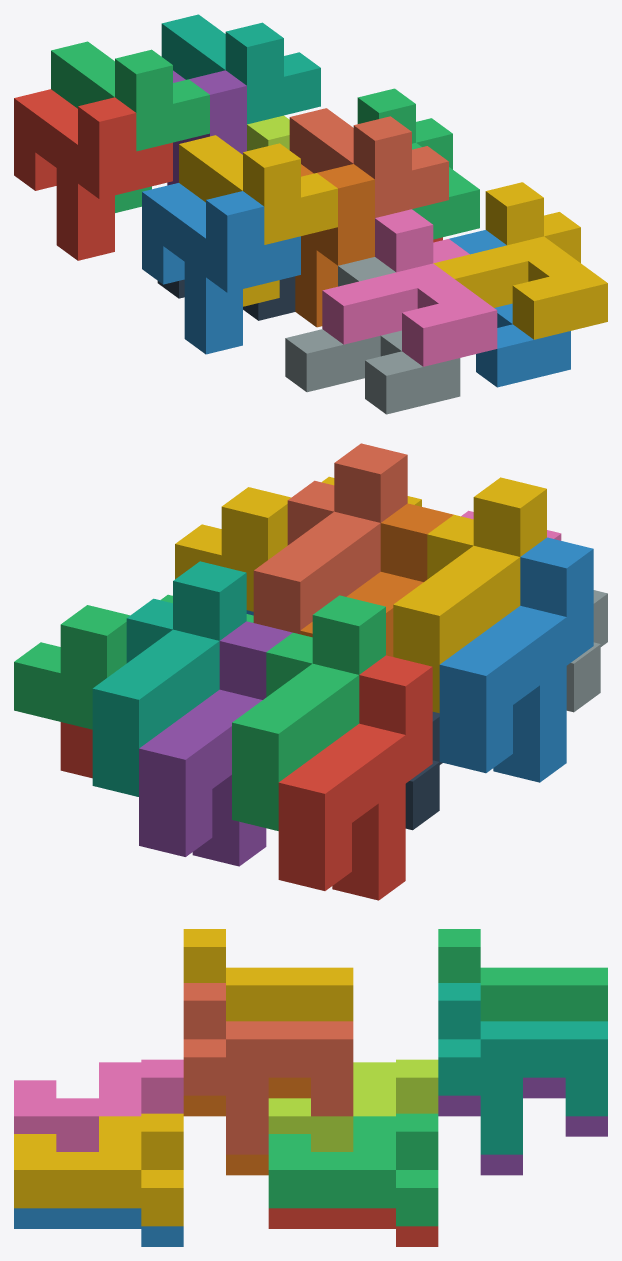
The model's file is tiling.obj.
3 views of the same model, one above another, from view 1: azimuth 30°, elevation 25°; view 2: azimuth 150°, elevation 25°; view 3: azimuth 270°, elevation 25° (orthographic). The views are drawn at different scales.
Visible parts, largest first — view 1: copy_1_domain_2, copy_1_domain_1, copy_2_domain_4, copy_2_domain_8, copy_1_domain_4, copy_1_domain_3, copy_2_domain_2, copy_1_domain_8, copy_1_domain_7, copy_1_domain_6, copy_2_domain_7, copy_2_domain_6 (+3 smaller); view 2: copy_1_domain_1, copy_1_domain_2, copy_1_domain_7, copy_1_domain_3, copy_1_domain_5, copy_1_domain_4, copy_1_domain_8, copy_2_domain_7, copy_2_domain_8, copy_1_domain_6, copy_2_domain_2, copy_2_domain_1 (+1 smaller); view 3: copy_1_domain_8, copy_1_domain_7, copy_2_domain_7, copy_2_domain_8, copy_1_domain_4, copy_1_domain_3, copy_2_domain_4, copy_2_domain_3, copy_1_domain_5, copy_2_domain_5, copy_2_domain_6, copy_1_domain_6.
Part boxes in pixels (<box>): copy_1_domain_2: <box>142,183,300,354</box>; copy_1_domain_1: <box>14,89,172,260</box>; copy_2_domain_4: <box>322,209,497,366</box>; copy_2_domain_8: <box>433,182,607,339</box>; copy_1_domain_4: <box>179,135,337,306</box>; copy_1_domain_3: <box>51,41,209,212</box>; copy_2_domain_2: <box>285,257,460,414</box>; copy_1_domain_8: <box>289,108,448,217</box>; copy_1_domain_7: <box>161,14,320,124</box>; copy_1_domain_6: <box>295,164,374,327</box>; copy_2_domain_7: <box>357,88,479,239</box>; copy_2_domain_6: <box>449,230,570,387</box>; copy_1_domain_1: <box>278,655,432,900</box>; copy_1_domain_2: <box>439,537,593,782</box>; copy_1_domain_7: <box>92,561,246,796</box>; copy_1_domain_3: <box>232,595,385,830</box>; copy_1_domain_5: <box>139,621,292,866</box>; copy_1_domain_4: <box>393,477,546,713</box>; copy_1_domain_8: <box>253,443,407,634</box>; copy_2_domain_7: <box>14,594,253,729</box>; copy_2_domain_8: <box>175,476,421,611</box>; copy_1_domain_6: <box>300,503,453,656</box>; copy_2_domain_2: <box>566,590,607,712</box>; copy_2_domain_1: <box>405,712,442,830</box>; copy_1_domain_8: <box>183,983,353,1154</box>; copy_1_domain_7: <box>438,983,607,1154</box>; copy_2_domain_7: <box>268,1113,438,1226</box>; copy_2_domain_8: <box>14,1113,183,1226</box>; copy_1_domain_4: <box>183,929,353,1021</box>; copy_1_domain_3: <box>438,929,607,1021</box>; copy_2_domain_4: <box>14,1059,183,1151</box>; copy_2_domain_3: <box>268,1059,438,1151</box>; copy_1_domain_5: <box>438,1077,607,1175</box>; copy_2_domain_5: <box>268,1208,438,1246</box>; copy_2_domain_6: <box>14,1208,183,1246</box>; copy_1_domain_6: <box>183,1077,310,1175</box>.
Bounding box in the file's own units: 9 × 5 × 14.
